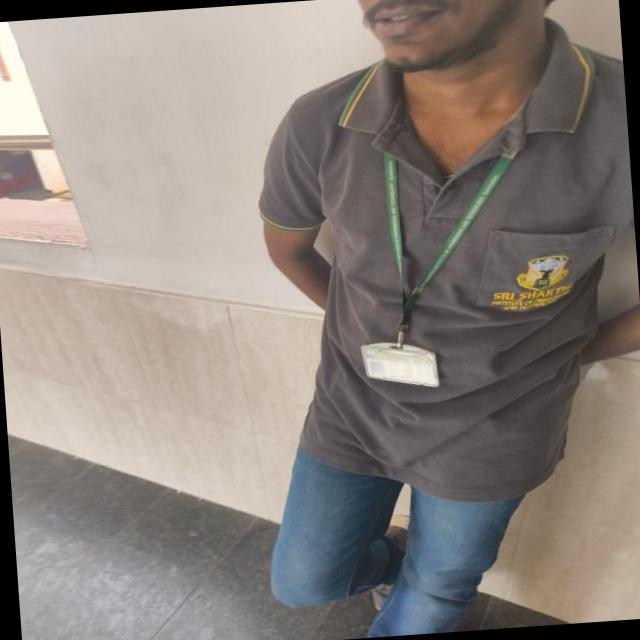id_card: (350, 154, 521, 392)
